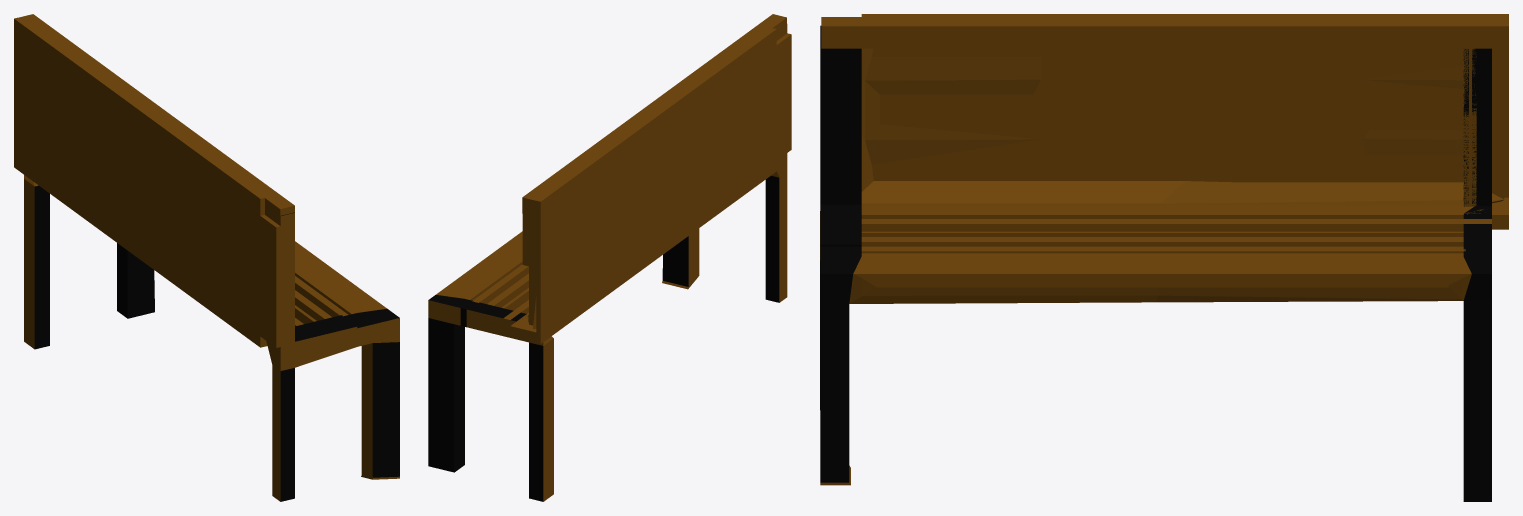
File: ławkav1.fbx
3 views of the same model, side by side, from view 1: azimuth 30°, elevation 25°; view 2: azimuth 150°, elevation 25°; view 3: azimuth 270°, elevation 25° (orthographic). The views are drawn at different scales.
Visible parts, largest first — view 1: Cube; view 2: Cube; view 3: Cube.
Part boxes in pixels (x1,y1,x2,y2): Cube: (14, 14, 399, 501); Cube: (428, 14, 791, 501); Cube: (820, 14, 1508, 501).
Size of the model in its own units: 468 by 1154 by 1719.
